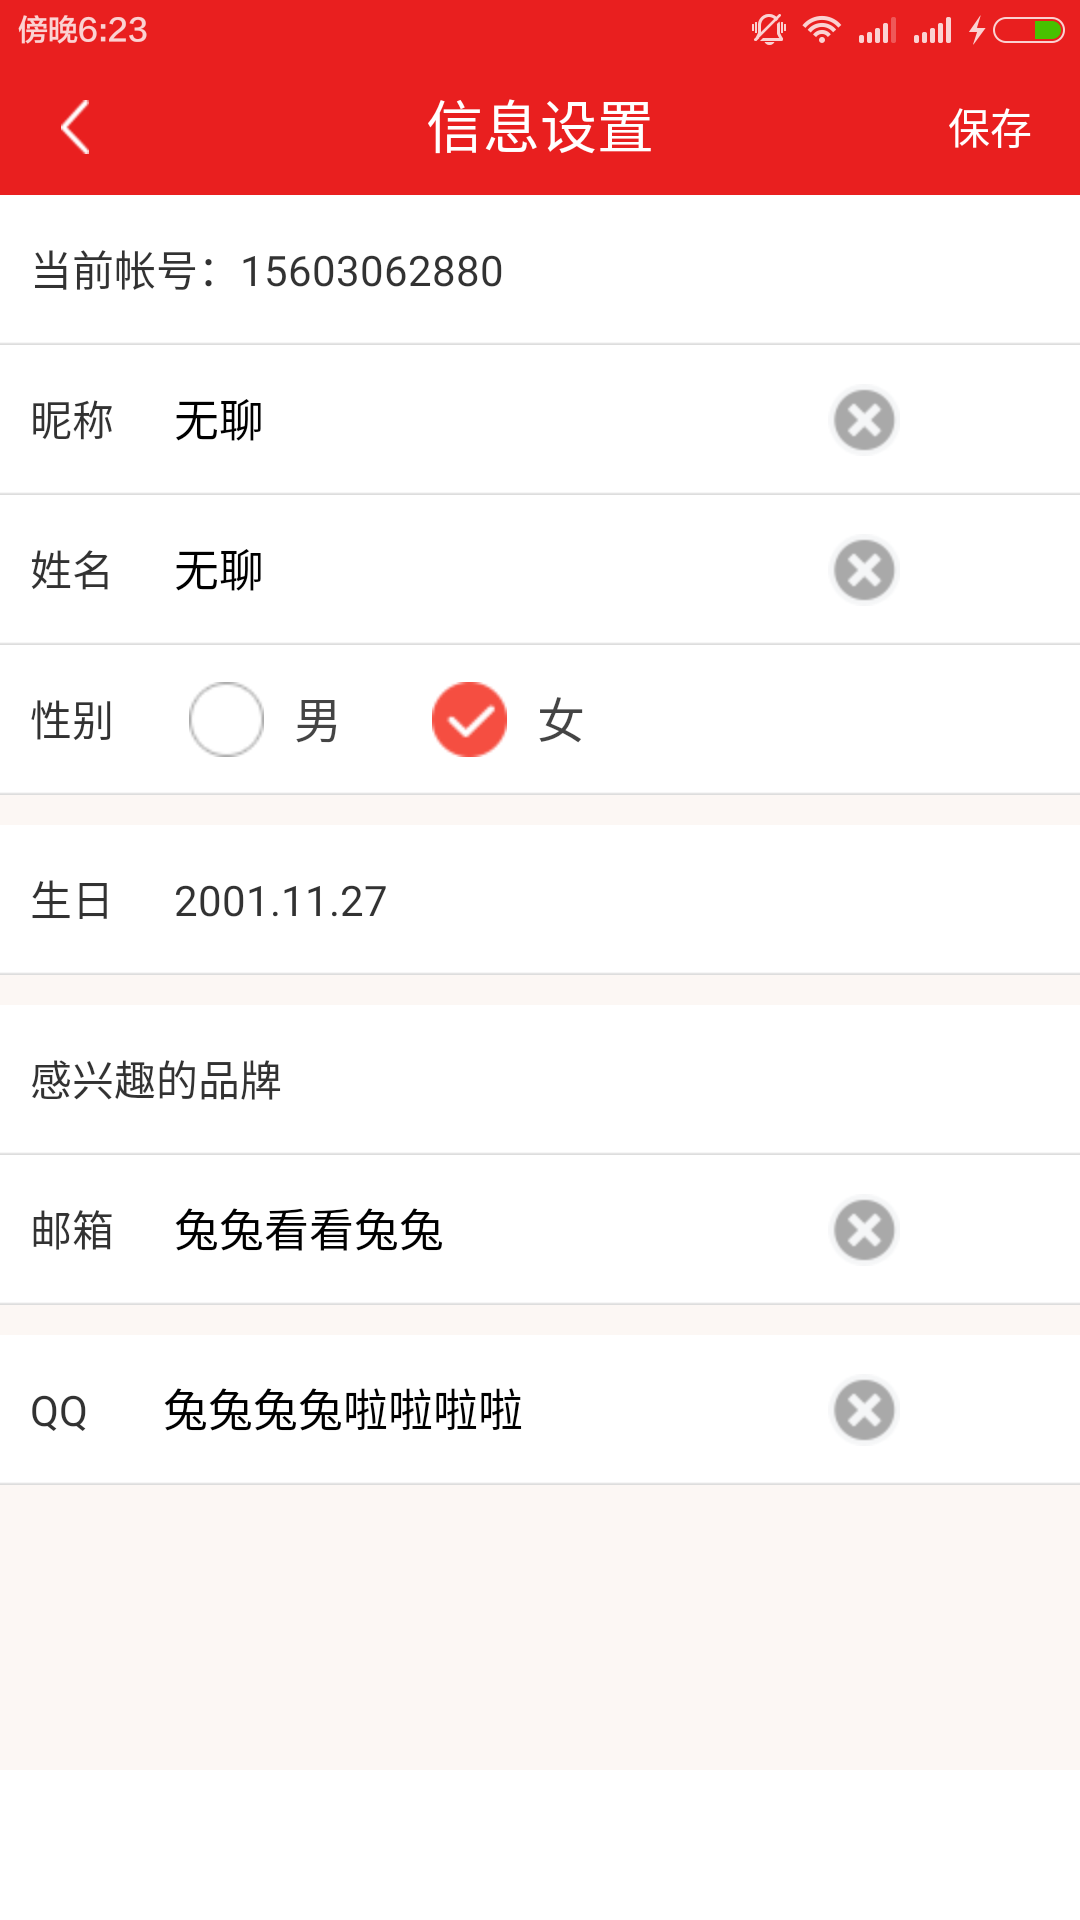imgbutton: (819, 524, 905, 624)
radiobutton: (13, 651, 731, 787)
textview: (7, 191, 1080, 356)
